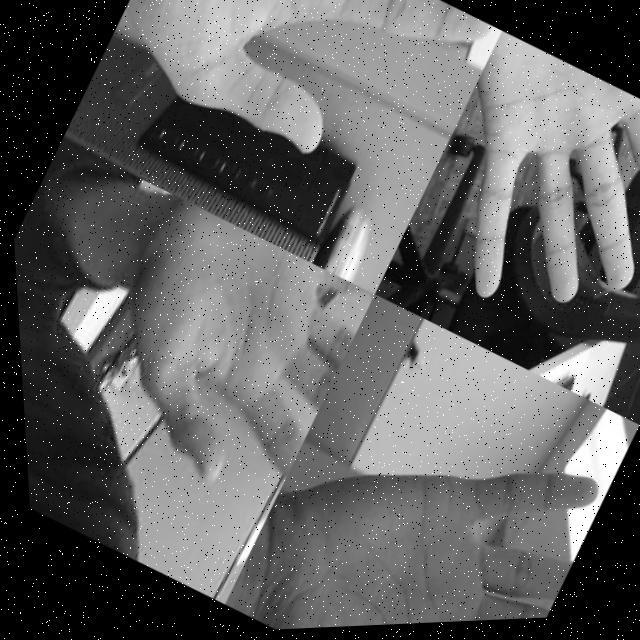no-gloves: (208, 350, 610, 634), (53, 192, 380, 524), (93, 0, 509, 234), (378, 30, 640, 379)
